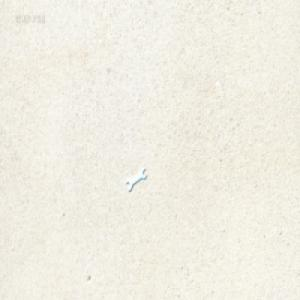Wrench: (126, 167, 147, 193)
